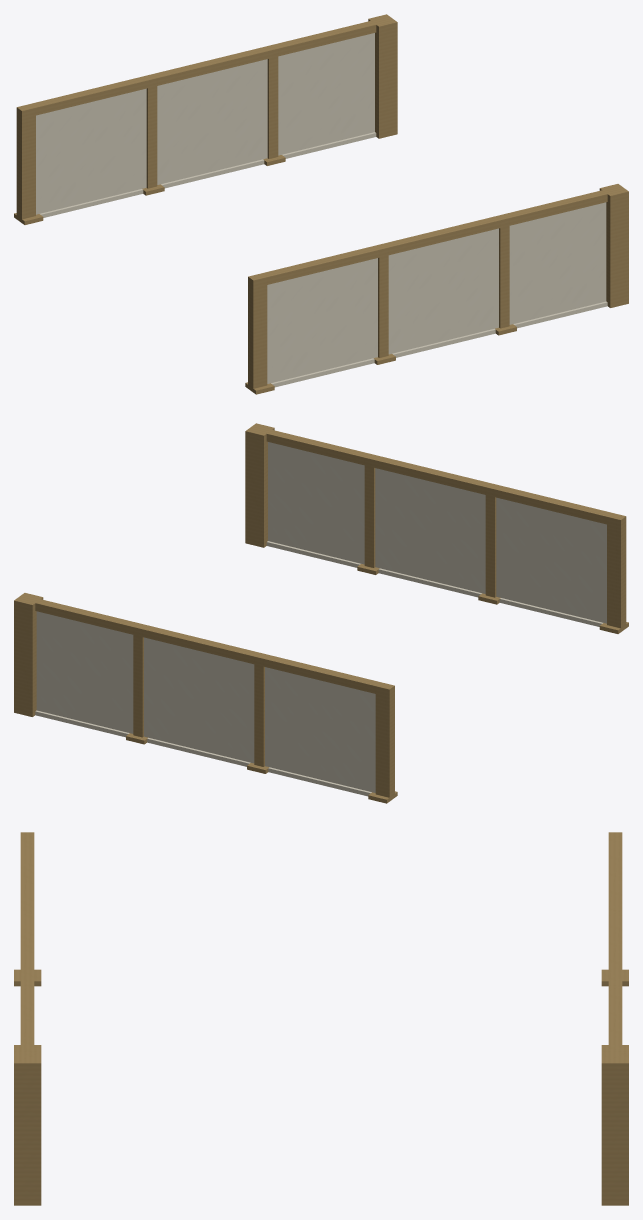
File: AST-RCV-D06-CLOUD-LINK-001.glb
3 views of the same model, one above another, from view 1: azimuth 30°, elevation 25°; view 2: azimuth 150°, elevation 25°; view 3: azimuth 270°, elevation 25° (orthographic). The views are drawn at different scales.
Visible parts, largest first — view 1: WP03Link_forward_Panel0, WP03Link_forward_Panel1, WP03Link_aft_Panel1, WP03Link_aft_Panel0, WP03Link_aft_Panel2, WP03Link_forward_Panel2, WP03Link_forward_Post3, WP03Link_aft_Post3, WP03Link_aft_Rail0, WP03Link_aft_Rail1, WP03Link_forward_Rail1, WP03Link_forward_Rail0 (+16 smaller); view 2: WP03Link_aft_Panel0, WP03Link_forward_Panel1, WP03Link_aft_Panel1, WP03Link_forward_Panel0, WP03Link_forward_Panel2, WP03Link_aft_Panel2, WP03Link_aft_Post3, WP03Link_forward_Post3, WP03Link_forward_Rail0, WP03Link_forward_Rail1, WP03Link_aft_Rail1, WP03Link_aft_Rail0 (+16 smaller); view 3: WP03Link_forward_Post3, WP03Link_aft_Post3, WP03Link_forward_Rail0, WP03Link_forward_Rail1, WP03Link_aft_Rail0, WP03Link_aft_Rail1, WP03Link_forward_Rail2, WP03Link_aft_Rail2, WP03Link_forward_Cap3, WP03Link_aft_Cap3.
Part boxes in pixels (box(x1,y1,x2,y2)): WP03Link_forward_Panel0: box(36, 88, 146, 214); WP03Link_forward_Panel1: box(157, 59, 267, 184); WP03Link_aft_Panel1: box(388, 228, 498, 354); WP03Link_aft_Panel0: box(267, 258, 377, 383); WP03Link_aft_Panel2: box(509, 202, 606, 324); WP03Link_forward_Panel2: box(278, 33, 374, 155); WP03Link_forward_Post3: box(375, 30, 397, 134); WP03Link_aft_Post3: box(606, 199, 628, 304); WP03Link_aft_Rail0: box(262, 246, 379, 284); WP03Link_aft_Rail1: box(384, 216, 500, 255); WP03Link_forward_Rail1: box(152, 47, 268, 85); WP03Link_forward_Rail0: box(31, 76, 147, 115); WP03Link_aft_Panel0: box(496, 497, 606, 623); WP03Link_forward_Panel1: box(144, 637, 254, 763); WP03Link_aft_Panel1: box(375, 468, 485, 593); WP03Link_forward_Panel0: box(265, 667, 375, 792); WP03Link_forward_Panel2: box(36, 611, 133, 733); WP03Link_aft_Panel2: box(268, 442, 364, 564); WP03Link_aft_Post3: box(245, 439, 267, 543); WP03Link_forward_Post3: box(14, 608, 36, 713); WP03Link_forward_Rail0: box(263, 655, 380, 693); WP03Link_forward_Rail1: box(142, 625, 258, 664); WP03Link_aft_Rail1: box(374, 456, 490, 494); WP03Link_aft_Rail0: box(495, 485, 611, 524); WP03Link_forward_Post3: box(601, 1073, 628, 1200); WP03Link_aft_Post3: box(14, 1073, 41, 1200); WP03Link_forward_Rail0: box(608, 841, 622, 910); WP03Link_forward_Rail1: box(608, 916, 622, 985); WP03Link_aft_Rail0: box(20, 841, 34, 910); WP03Link_aft_Rail1: box(20, 916, 34, 985); WP03Link_forward_Rail2: box(608, 991, 622, 1051); WP03Link_aft_Rail2: box(20, 991, 34, 1051); WP03Link_forward_Cap3: box(601, 1051, 628, 1073); WP03Link_aft_Cap3: box(14, 1051, 41, 1073).
Size of the model in its own units: 4 by 1.15 by 4.5.
Materials: 2 (2 with a texture image).
